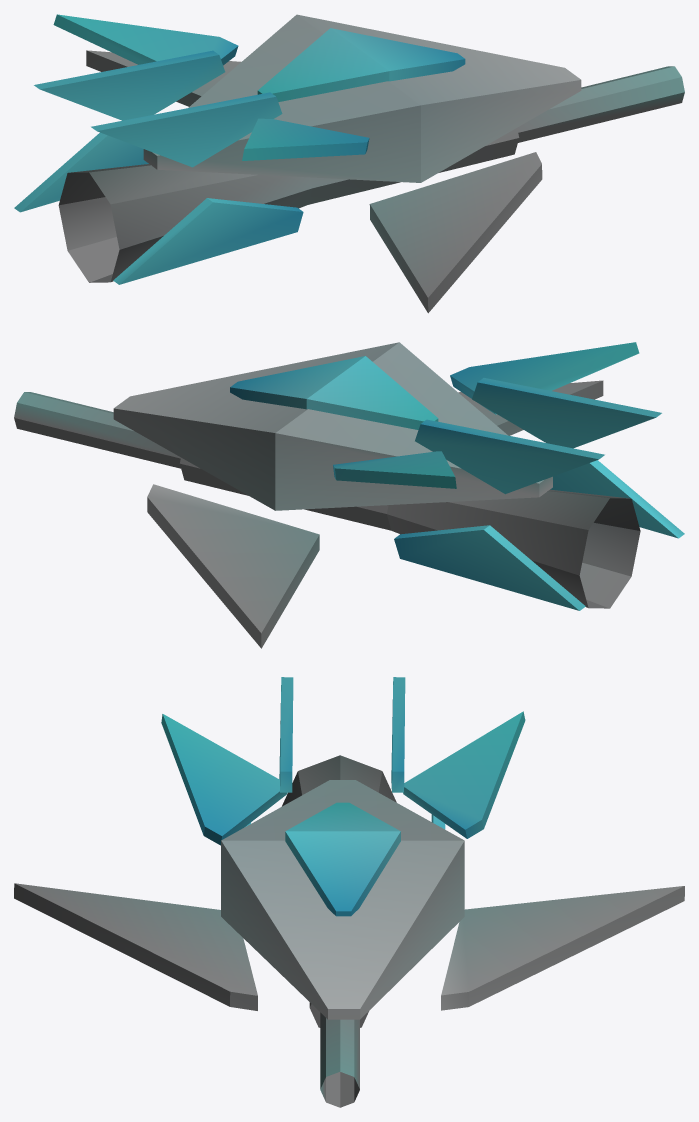
File: player1.fbx
The picture shows the model from 3 angles, top to bottom: view 1: azimuth 30°, elevation 25°; view 2: azimuth 150°, elevation 25°; view 3: azimuth 270°, elevation 25°; orthographic projection.
Parts seen in each view (by area): view 1: modo1; view 2: modo1; view 3: modo1.
Boxes of the visible parts, x1=… form: modo1: x1=14, y1=14, x2=684, y2=313; modo1: x1=14, y1=342, x2=684, y2=648; modo1: x1=14, y1=677, x2=684, y2=1107.
Size of the model in its own units: 566 by 165 by 551.
